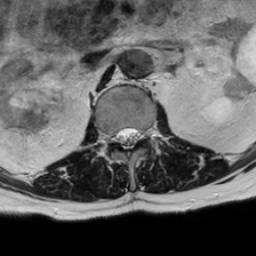CCS_normal: (124, 118, 132, 163)
LFS_normal: (140, 119, 149, 150)
LLS_normal: (132, 118, 140, 152)
RFS_normal: (105, 122, 115, 152)
RLS_normal: (115, 120, 124, 151)
